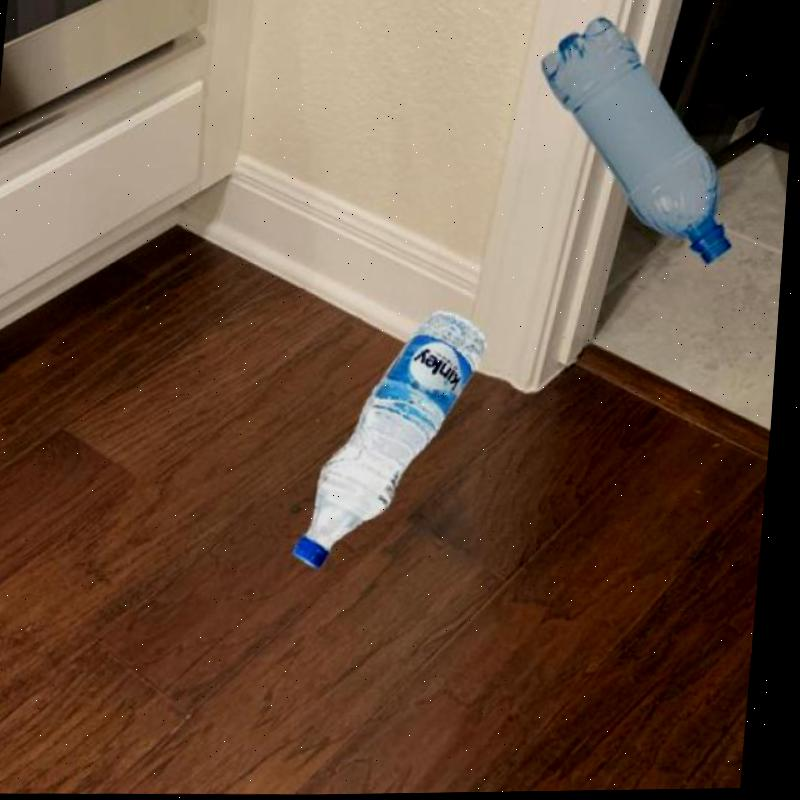botella: (529, 14, 750, 269), (300, 309, 493, 572)
